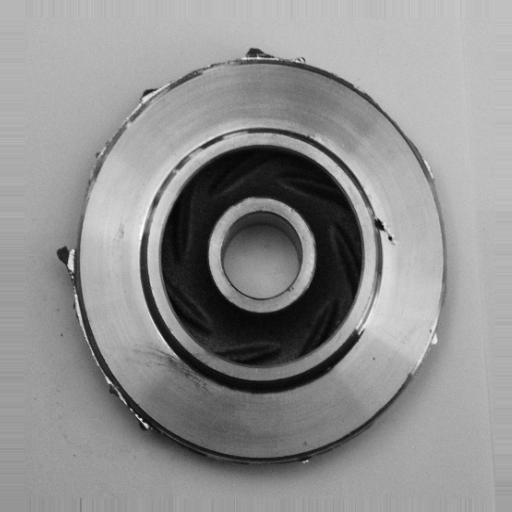casting_with_burr: (53, 44, 451, 475)
crack: (363, 206, 408, 260)
scratch: (350, 281, 394, 346)
stain: (145, 345, 228, 396)
